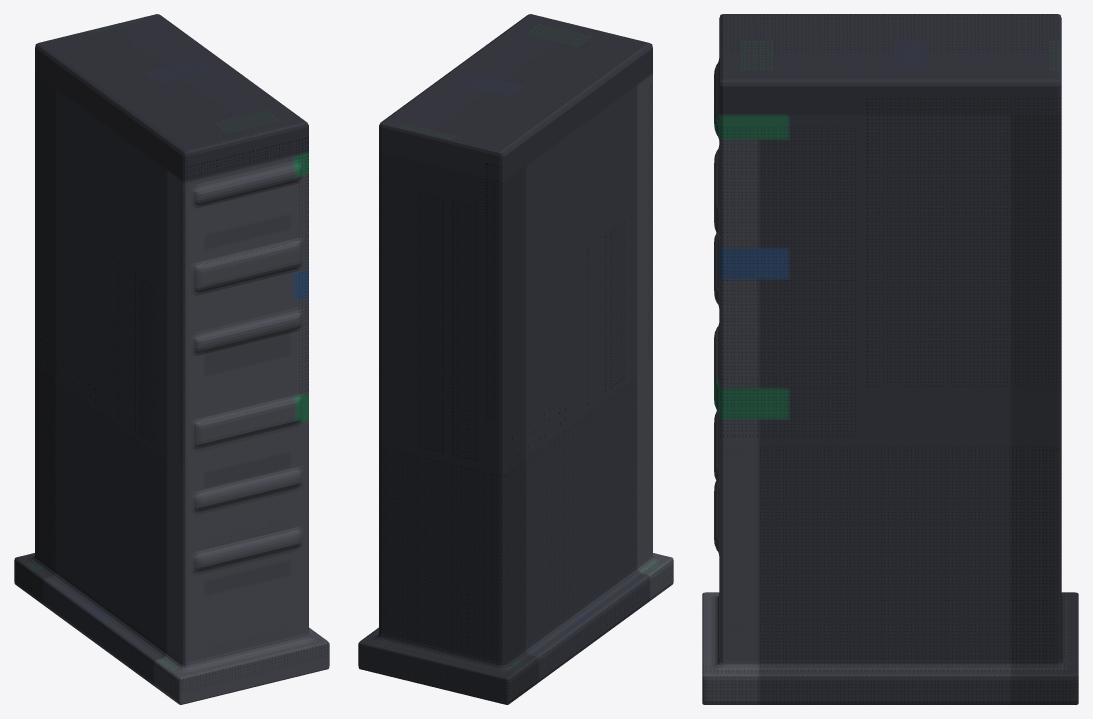
File: compute-server-rack.glb
The picture shows the model from 3 angles, left to right: view 1: azimuth 30°, elevation 25°; view 2: azimuth 150°, elevation 25°; view 3: azimuth 270°, elevation 25°; orthographic projection. The views are drawn at different scales.
Parts seen in each view (by area): view 1: mesh_compute-server-rack; view 2: mesh_compute-server-rack; view 3: mesh_compute-server-rack.
Boxes of the visible parts, left/top/right/bottom form: mesh_compute-server-rack: left=14, top=14, right=329, bottom=704; mesh_compute-server-rack: left=358, top=14, right=673, bottom=704; mesh_compute-server-rack: left=702, top=14, right=1078, bottom=704.
Bounding box in the file's own units: 0.5826 × 1.99 × 1.1.
1 material, 1 textured.
